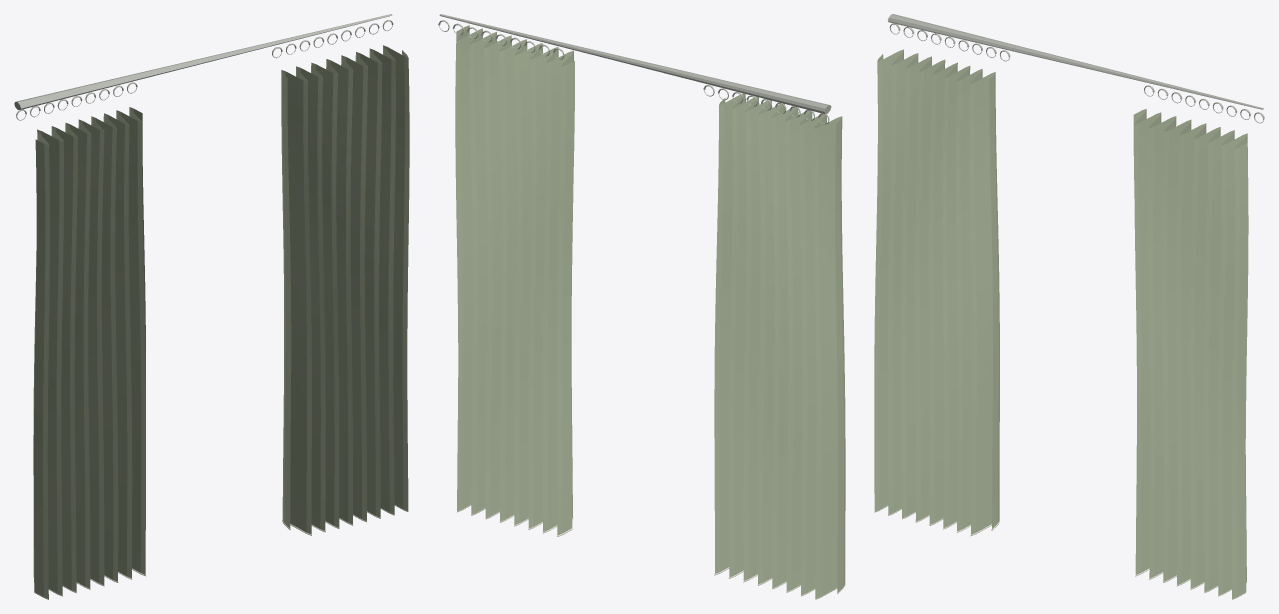
The model's file is curtain-linen-pair.glb.
The picture shows the model from 3 angles, left to right: view 1: azimuth 30°, elevation 25°; view 2: azimuth 150°, elevation 25°; view 3: azimuth 330°, elevation 25°; orthographic projection. The views are drawn at different scales.
Visible parts, largest first — view 1: curtain-linen-pair; view 2: curtain-linen-pair; view 3: curtain-linen-pair.
Part boxes in pixels (<box>): curtain-linen-pair: <box>14,14,409,599</box>; curtain-linen-pair: <box>438,14,845,599</box>; curtain-linen-pair: <box>874,14,1264,599</box>.
Size of the model in its own units: 1.8 by 2.2 by 0.23.
